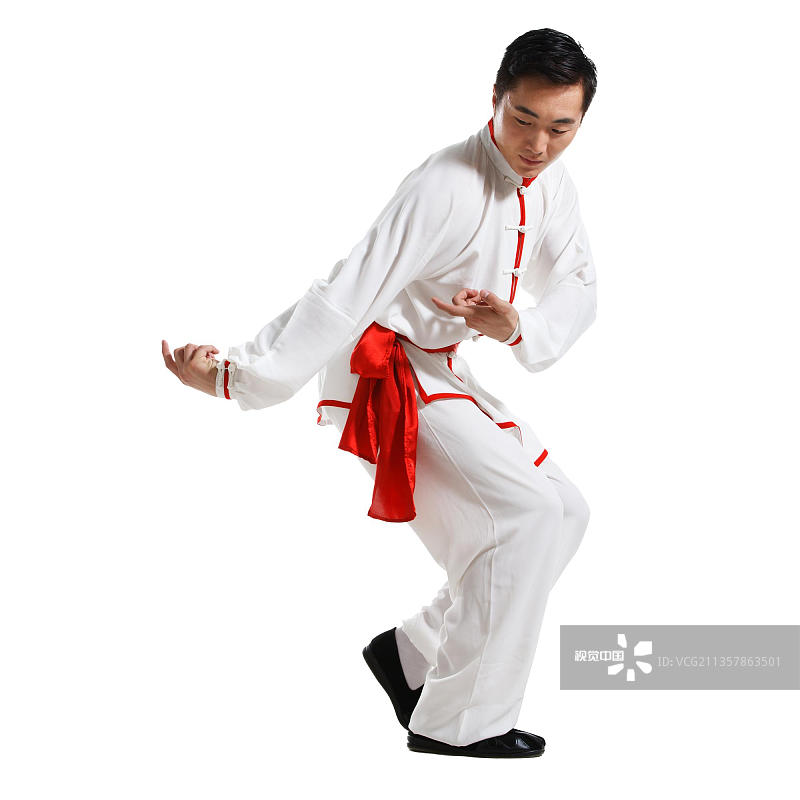no-phone: (123, 322, 251, 400), (420, 269, 537, 350)
